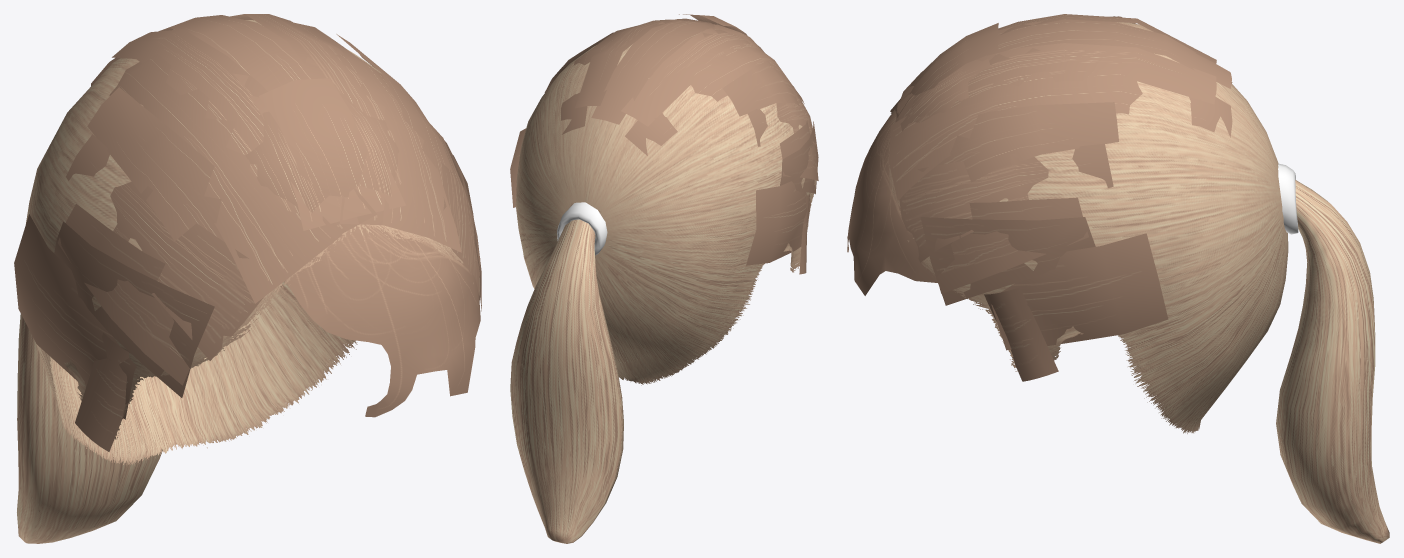
The model's file is hair_001.obj.
3 views of the same model, side by side, from view 1: azimuth 30°, elevation 25°; view 2: azimuth 150°, elevation 25°; view 3: azimuth 270°, elevation 25° (orthographic). The views are drawn at different scales.
Size of the model in its own units: 17.89 by 27.76 by 26.24.
